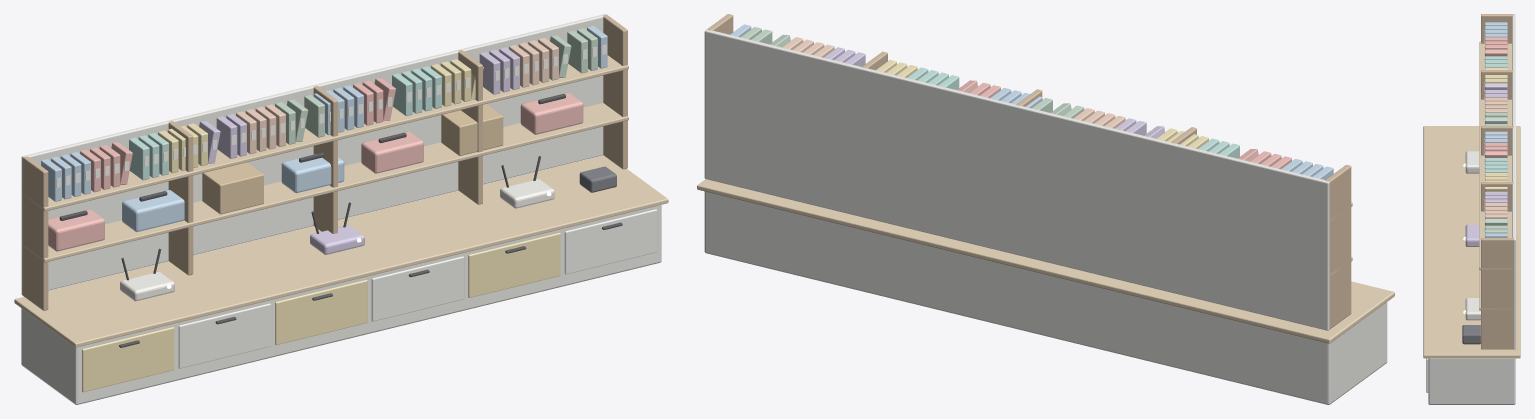
The model's file is pantry.glb.
3 renders of one model, left to right at view 1: azimuth 30°, elevation 25°; view 2: azimuth 150°, elevation 25°; view 3: azimuth 270°, elevation 25°, orthographic. The views are drawn at different scales.
Parts seen in each view (by area): view 1: pantry_white, pantry_oak, pantry_butter, pantry_oak_edge, pantry_coral, pantry_sky, pantry_cardboard, pantry_lilac, pantry_mint, pantry_peach, pantry_sage, pantry_paper (+2 smaller); view 2: pantry_white, pantry_oak, pantry_oak_edge, pantry_sky, pantry_peach, pantry_mint, pantry_coral, pantry_sage, pantry_lilac, pantry_butter; view 3: pantry_oak, pantry_white, pantry_oak_edge, pantry_lilac, pantry_coral, pantry_sky, pantry_peach, pantry_sage, pantry_mint, pantry_butter, pantry_graphite, pantry_paper.
Boxes of the visible parts, <box> form: pantry_white: <box>21,14,661,404</box>; pantry_oak: <box>14,55,668,347</box>; pantry_butter: <box>82,59,560,392</box>; pantry_oak_edge: <box>22,14,627,310</box>; pantry_coral: <box>48,78,583,251</box>; pantry_sky: <box>41,26,607,231</box>; pantry_cardboard: <box>202,104,503,214</box>; pantry_lilac: <box>199,47,519,254</box>; pantry_mint: <box>129,66,441,180</box>; pantry_peach: <box>236,37,558,154</box>; pantry_sage: <box>275,28,597,144</box>; pantry_paper: <box>56,44,606,187</box>; pantry_white: <box>704,29,1387,404</box>; pantry_oak: <box>697,179,1394,343</box>; pantry_oak_edge: <box>706,14,1351,329</box>; pantry_sky: <box>730,24,1333,179</box>; pantry_peach: <box>782,37,1125,128</box>; pantry_mint: <box>907,67,1239,158</box>; pantry_coral: <box>957,80,1291,168</box>; pantry_sage: <box>741,27,1084,118</box>; pantry_lilac: <box>824,47,1164,138</box>; pantry_butter: <box>876,60,1208,148</box>; pantry_oak: <box>1423,41,1520,358</box>; pantry_white: <box>1426,14,1515,404</box>; pantry_oak_edge: <box>1481,14,1513,349</box>; pantry_lilac: <box>1465,83,1507,246</box>; pantry_coral: <box>1485,37,1507,157</box>; pantry_sky: <box>1485,22,1507,237</box>; pantry_peach: <box>1485,97,1507,218</box>; pantry_sage: <box>1485,112,1507,233</box>; pantry_mint: <box>1485,56,1507,172</box>; pantry_butter: <box>1485,67,1507,191</box>; pantry_graphite: <box>1462,325,1480,344</box>; pantry_paper: <box>1484,29,1484,237</box>.
Bounding box in the file's own units: 6.7 × 2.25 × 1.2.
